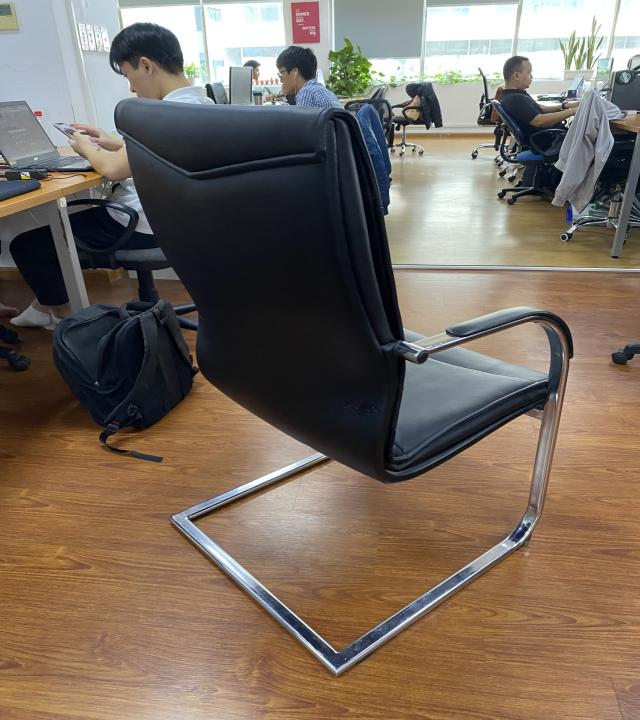SS_03: (109, 90, 577, 681)
